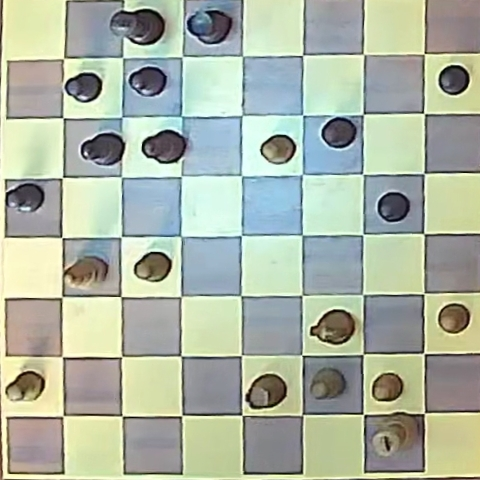black-bishop: (81, 132, 124, 167), (142, 130, 185, 164), (128, 66, 166, 97)
black-king: (111, 8, 163, 45)
black-pawn: (64, 72, 102, 102), (6, 183, 44, 212), (322, 117, 356, 148), (438, 64, 470, 95), (377, 192, 410, 222)
black-rook: (186, 9, 232, 45)
white-bishop: (64, 256, 108, 289)
white-king: (370, 414, 417, 458)
white-knight: (310, 310, 354, 345)
white-pawn: (5, 371, 45, 402), (134, 251, 171, 282), (310, 368, 345, 400), (261, 134, 296, 164), (438, 304, 469, 333), (372, 373, 403, 402)
white-rook: (246, 374, 286, 409)
